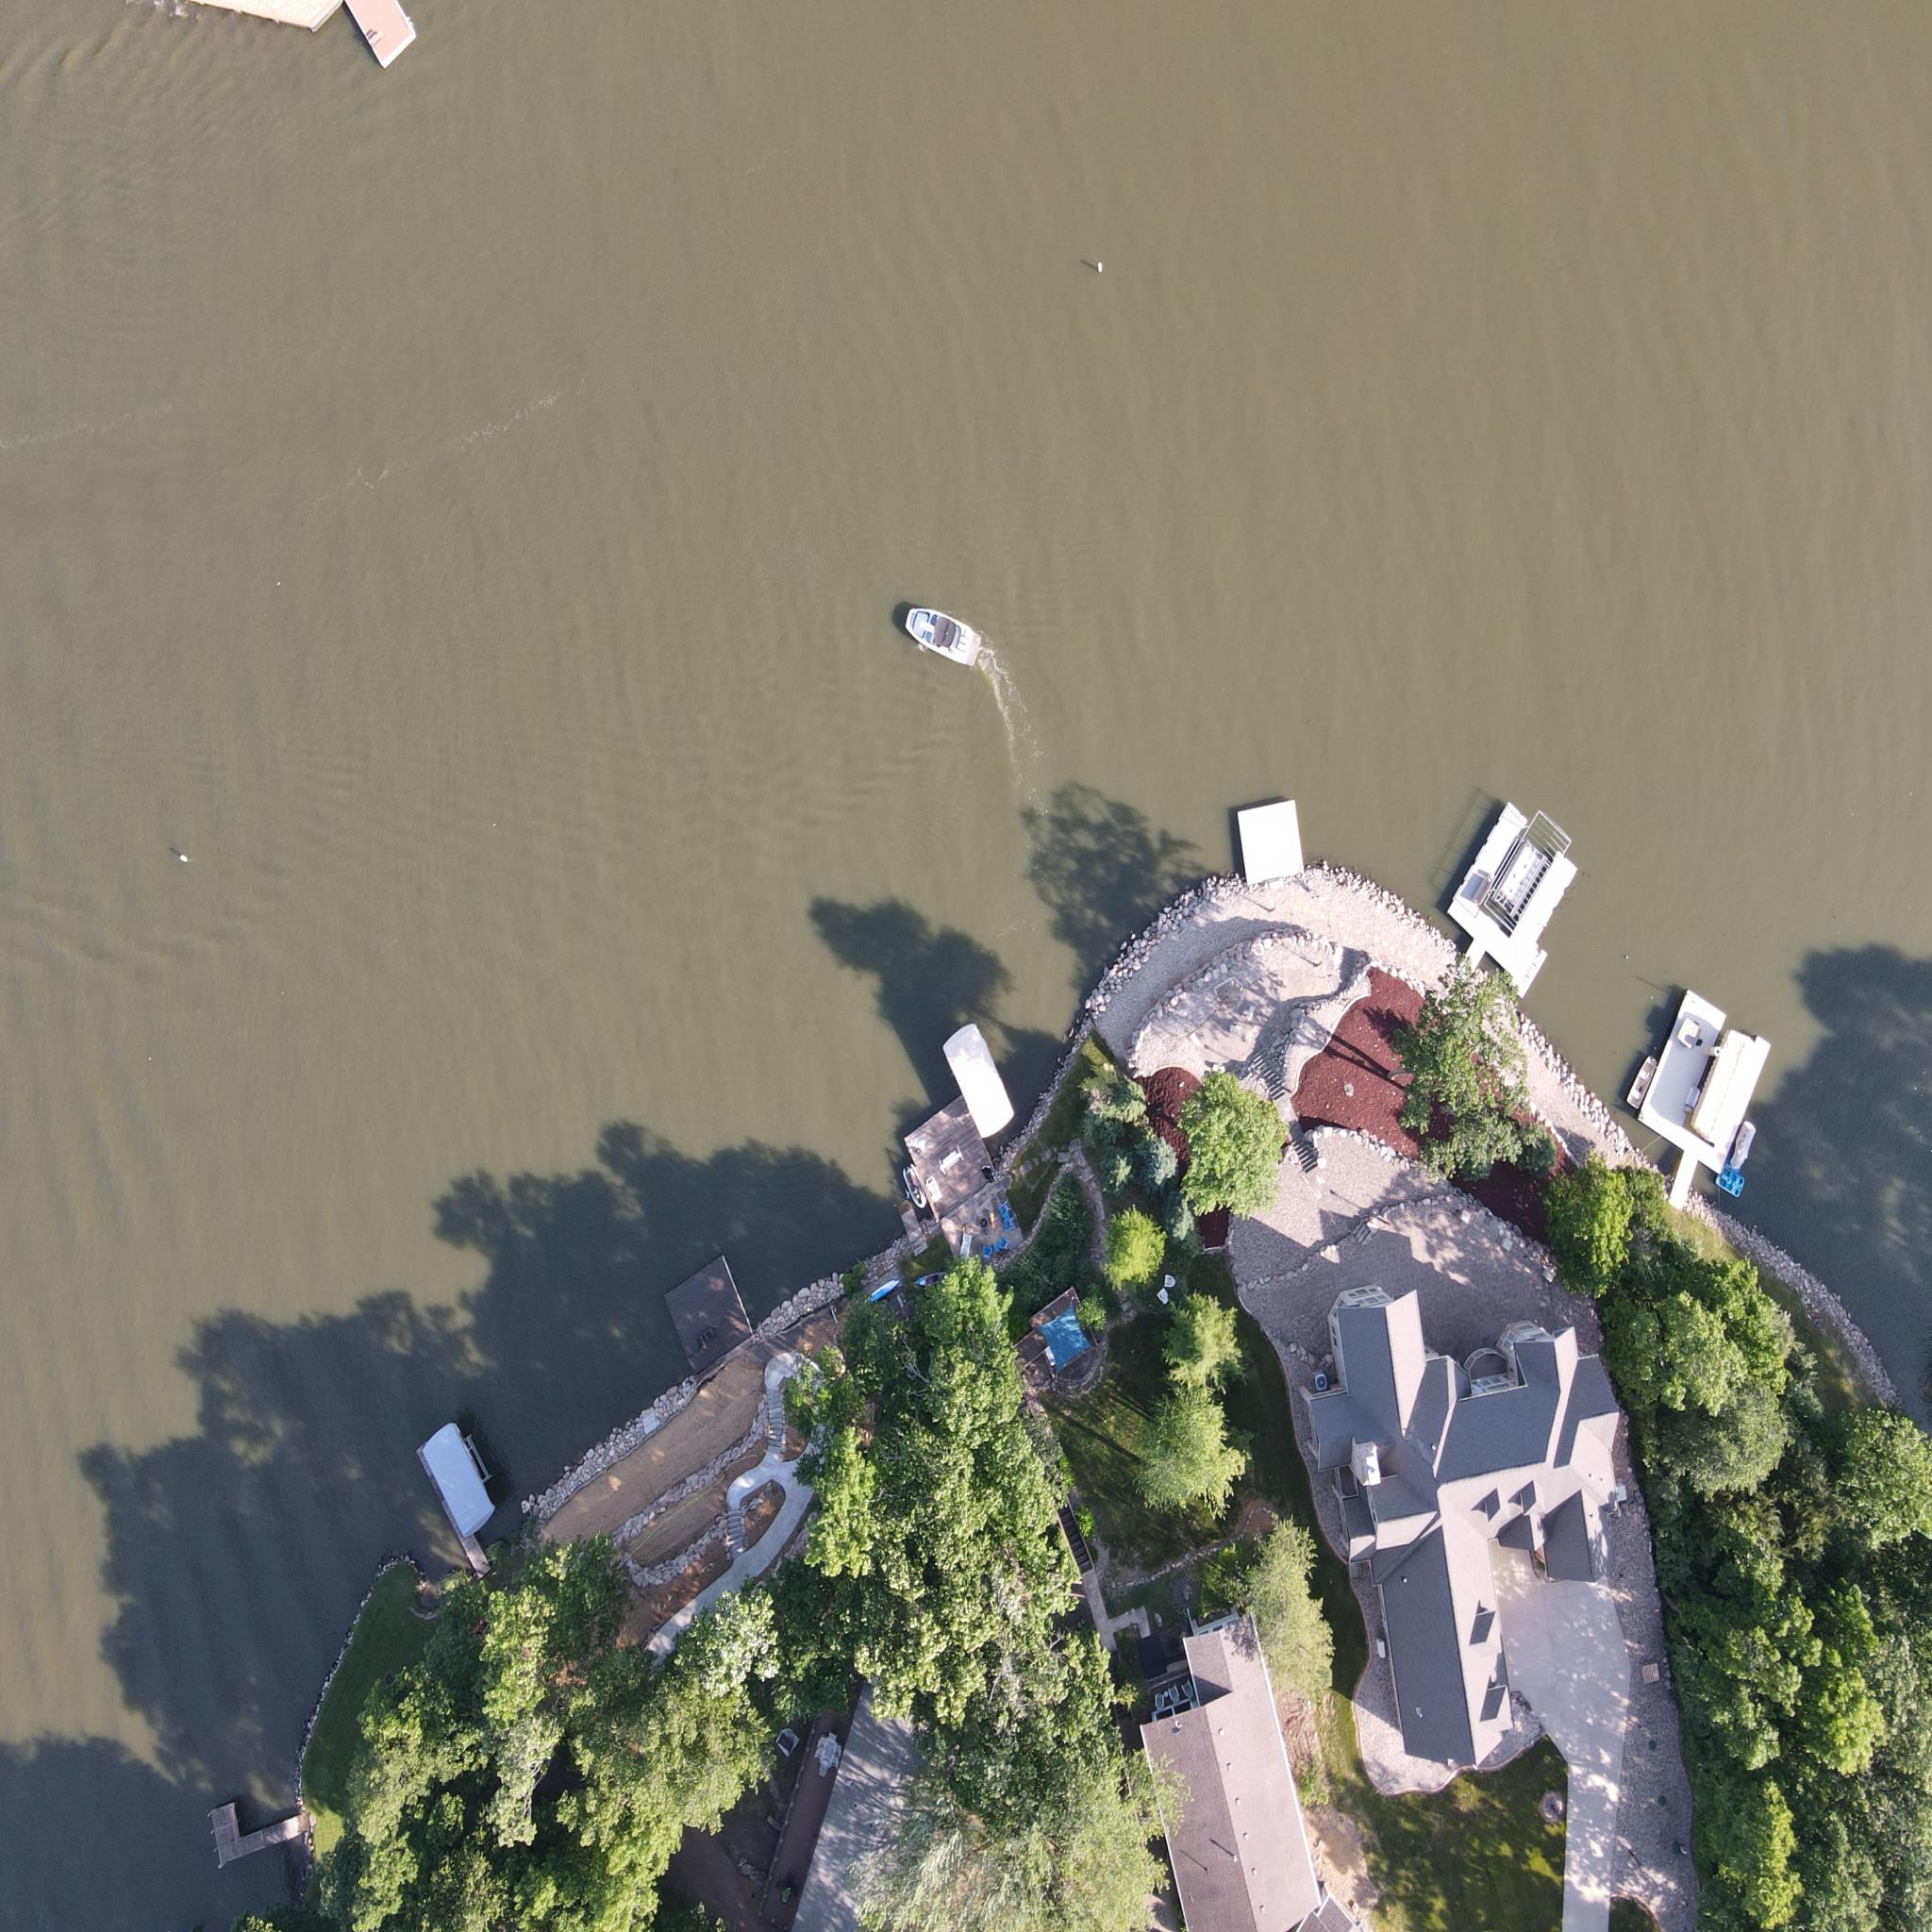boat: (897, 586, 982, 688)
dock: (1638, 987, 1773, 1208), (1444, 801, 1591, 987), (180, 2, 412, 65), (662, 1244, 754, 1373), (423, 1430, 495, 1583), (904, 1095, 991, 1210), (207, 1790, 308, 1867), (1235, 791, 1311, 885)
lift: (1491, 794, 1576, 961), (941, 1026, 1028, 1138), (1700, 1026, 1766, 1152), (421, 1437, 497, 1530)
